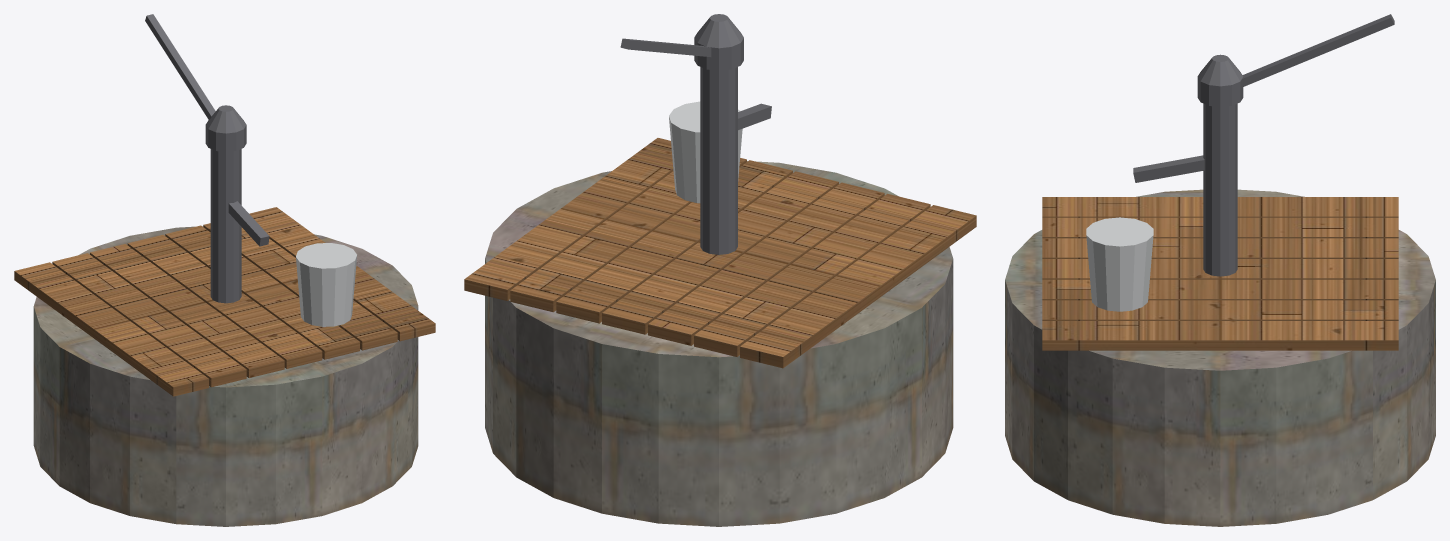
The model's file is hand_pump.glb.
The picture shows the model from 3 angles, left to right: view 1: azimuth 30°, elevation 25°; view 2: azimuth 150°, elevation 25°; view 3: azimuth 270°, elevation 25°; orthographic projection. The views are drawn at different scales.
Parts seen in each view (by area): view 1: hand_pump_stone, hand_pump_wood, hand_pump_iron, hand_pump_galv; view 2: hand_pump_stone, hand_pump_wood, hand_pump_iron, hand_pump_galv; view 3: hand_pump_stone, hand_pump_wood, hand_pump_iron, hand_pump_galv.
Boxes of the visible parts, box(x1,y1,x2,y2) form: hand_pump_stone: box(33, 226, 418, 526); hand_pump_wood: box(14, 207, 435, 396); hand_pump_iron: box(145, 14, 269, 303); hand_pump_galv: box(296, 243, 357, 326); hand_pump_stone: box(485, 161, 953, 526); hand_pump_wood: box(464, 138, 976, 368); hand_pump_iron: box(620, 14, 771, 254); hand_pump_galv: box(669, 101, 742, 203); hand_pump_stone: box(1005, 189, 1435, 526); hand_pump_wood: box(1042, 197, 1398, 350); hand_pump_iron: box(1133, 14, 1394, 276); hand_pump_galv: box(1086, 217, 1153, 311).
Bounding box in the file's own units: 1.5 × 1.61 × 1.5.
Materials: 5 (2 with a texture image).
